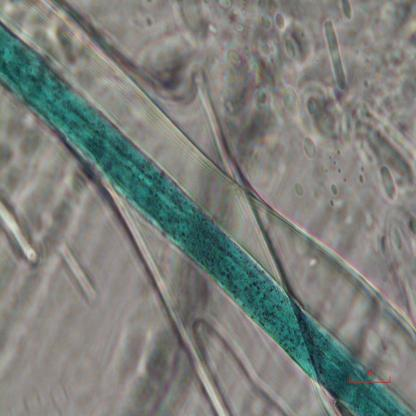Background material: (124, 302, 277, 416), (227, 0, 310, 152), (121, 20, 218, 124), (108, 193, 174, 308), (354, 95, 416, 206), (299, 86, 356, 174), (0, 186, 49, 272), (48, 234, 103, 304), (381, 210, 416, 313), (36, 3, 82, 74), (0, 115, 48, 182), (319, 18, 349, 93), (320, 177, 342, 213), (334, 0, 356, 23), (288, 179, 305, 201)
Microfibre: (0, 20, 413, 415)
